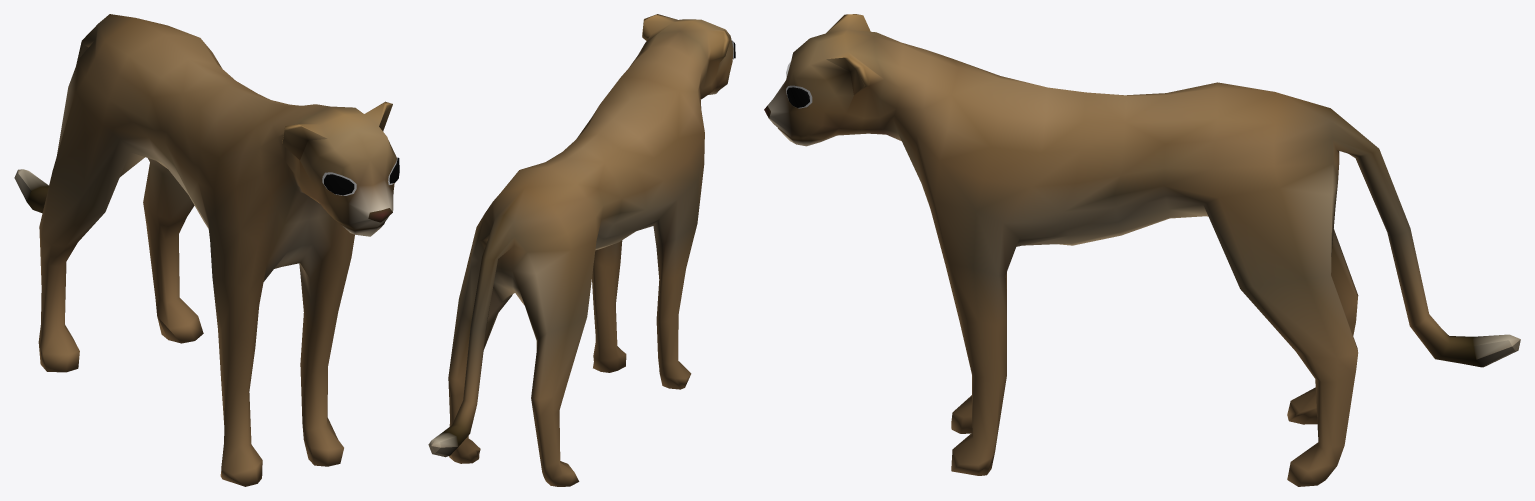
File: Cheetah.gltf
The picture shows the model from 3 angles, left to right: view 1: azimuth 30°, elevation 25°; view 2: azimuth 150°, elevation 25°; view 3: azimuth 270°, elevation 25°; orthographic projection. The views are drawn at different scales.
Parts seen in each view (by area): view 1: base.055; view 2: base.055; view 3: base.055.
Boxes of the visible parts, x1,y1,x2,y2 form: base.055: (14, 14, 399, 486); base.055: (428, 14, 735, 486); base.055: (764, 14, 1520, 486).
Size of the model in its own units: 0.451 by 1.1 by 1.82.
